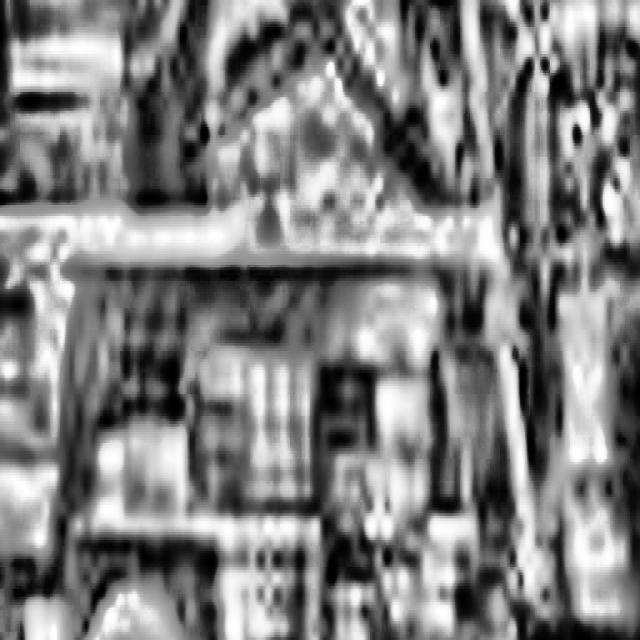dump_truck: (0, 154, 502, 640)
